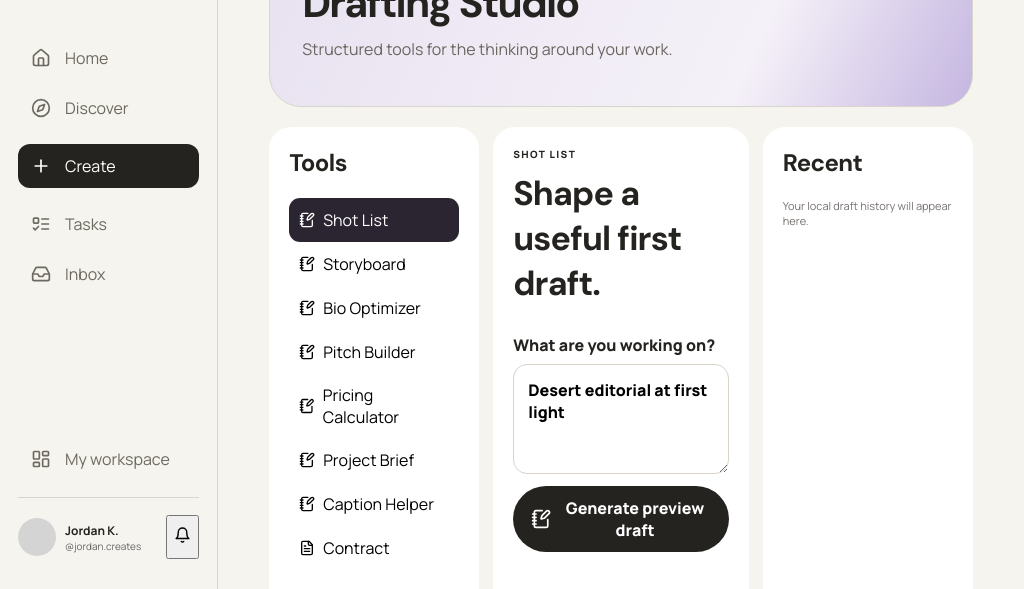
it: secondary product modules › generates and saves a drafting preview
This screenshot has width=1024, height=589.
Click the button "Generate preview draft" at (621, 519), box 513,486 -> 729,552
(page scrolled)
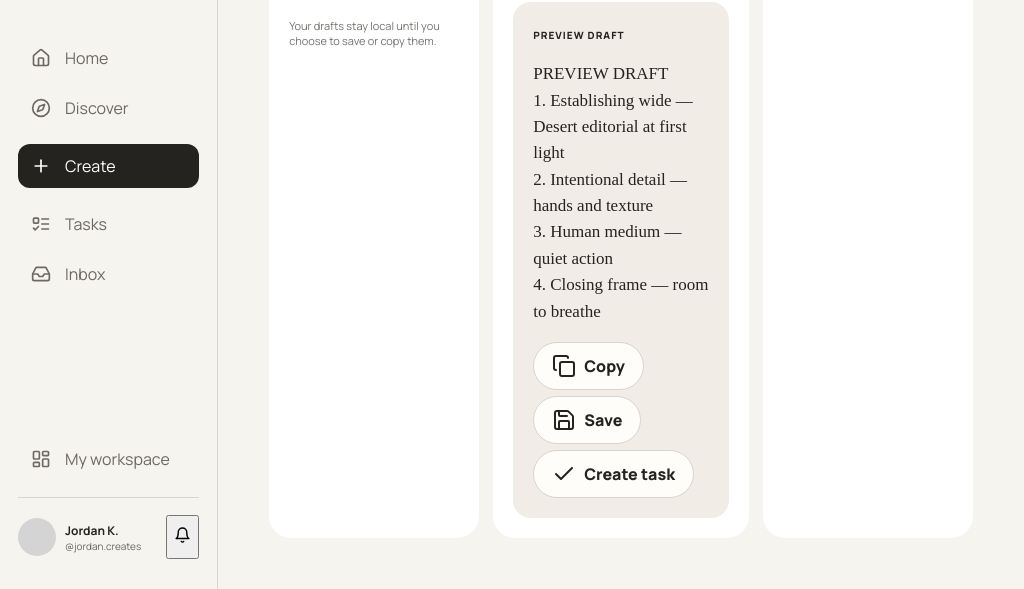
Check: the text "Preview draft" is shown, box 533,28 -> 625,42
Click the button "Save" at (587, 420), box 533,396 -> 642,444
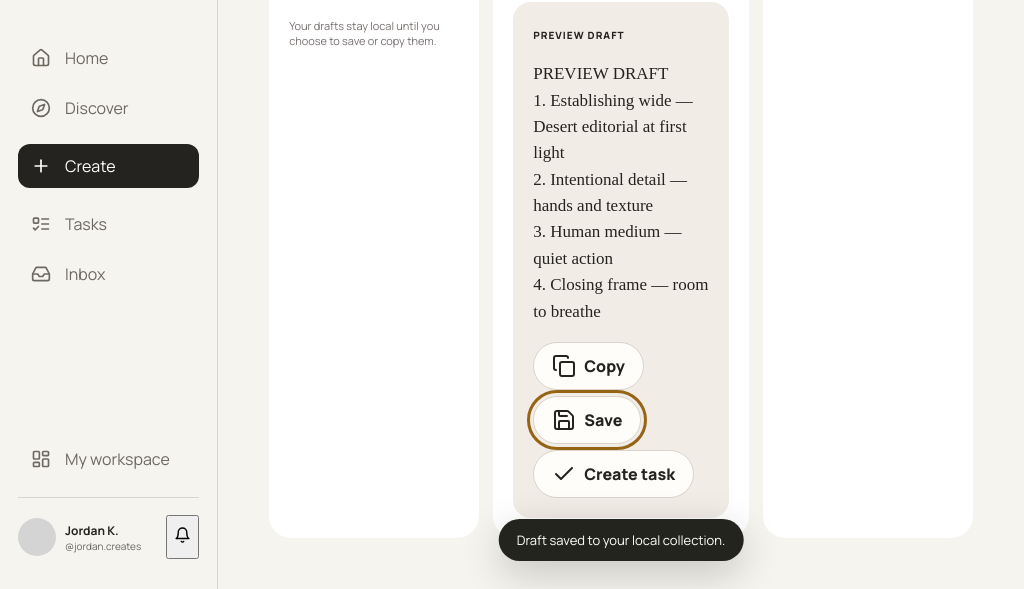
Check: the message shows "saved", box 517,531 -> 725,549
